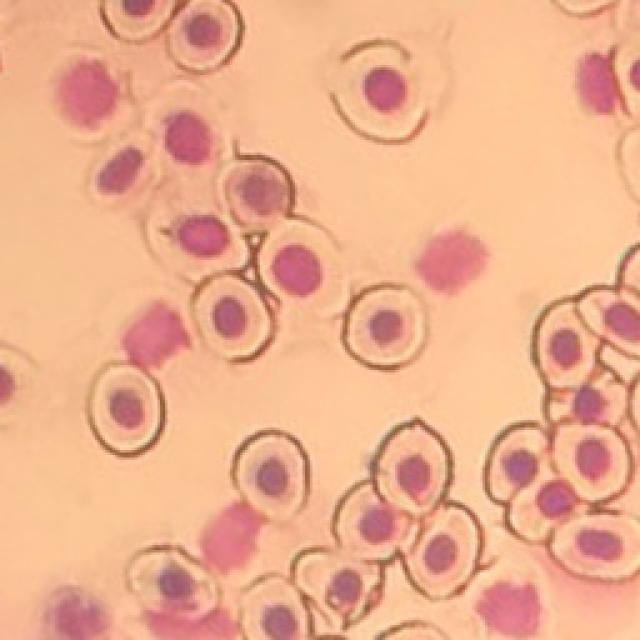RBC: (144, 176, 249, 283), (331, 39, 426, 142), (259, 219, 349, 318), (371, 419, 452, 518), (402, 501, 482, 599), (291, 548, 384, 629), (231, 429, 310, 521), (88, 362, 165, 456), (342, 284, 426, 369), (192, 272, 272, 360), (332, 480, 418, 559), (128, 545, 219, 619), (552, 421, 631, 502), (506, 469, 590, 542), (532, 299, 599, 390), (549, 514, 640, 579), (218, 155, 295, 231), (485, 422, 549, 503), (169, 0, 240, 72), (240, 575, 309, 640), (548, 371, 628, 425), (578, 288, 640, 356), (101, 0, 178, 41), (96, 146, 144, 193), (614, 41, 640, 118)
WBC: (416, 230, 488, 293), (122, 302, 190, 368), (200, 502, 264, 572), (56, 59, 118, 129), (45, 586, 110, 640), (476, 582, 541, 636), (579, 52, 619, 114), (166, 111, 212, 163)
